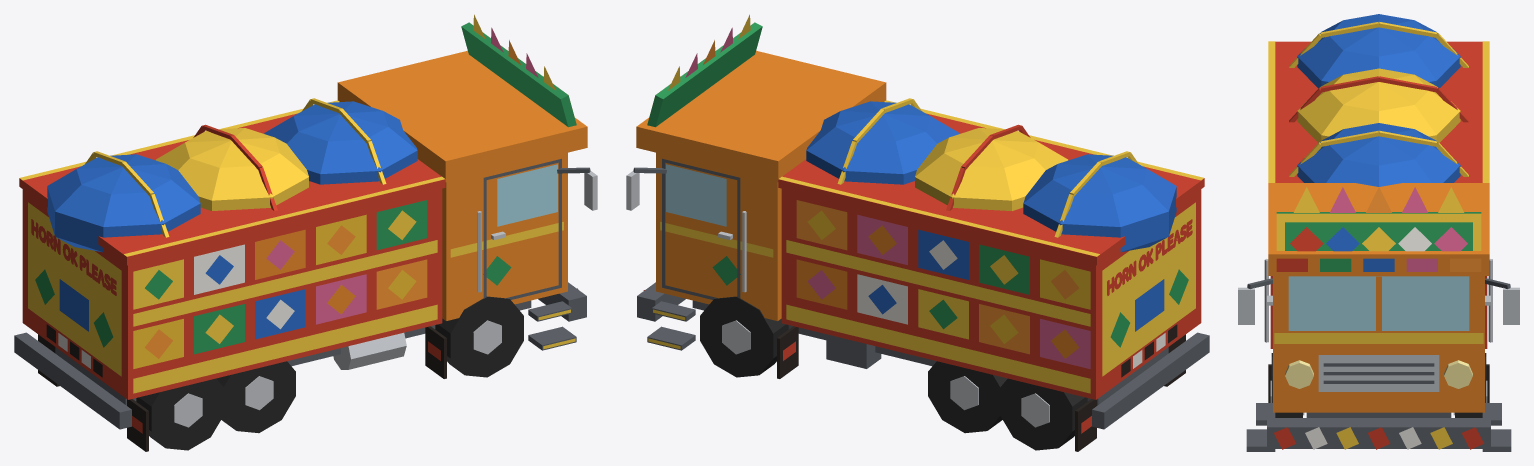
File: truck.glb
The picture shows the model from 3 angles, left to right: view 1: azimuth 30°, elevation 25°; view 2: azimuth 150°, elevation 25°; view 3: azimuth 270°, elevation 25°; orthographic projection. The views are drawn at different scales.
Visible parts, largest first — view 1: truck; view 2: truck; view 3: truck.
Boxes of the visible parts, left/top/right/bottom form: truck: left=14, top=14, right=597, bottom=451; truck: left=626, top=14, right=1209, bottom=451; truck: left=1238, top=14, right=1519, bottom=451.
Bounding box in the file's own units: 4.72 × 2.65 × 2.34.
Materials: 1 (1 with a texture image).
